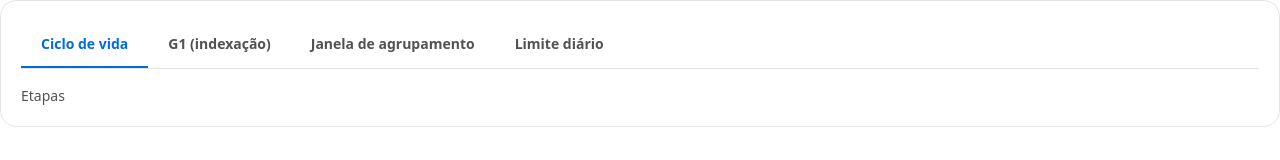
Test: SiteTabs › abre no Ciclo de vida e troca de aba pelo clique
expect the panel named "Ciclo de vida" reads "Etapas": met, box 21,86 -> 65,105
Click the tab "Janela de agrupamento": click(393, 44) 291,21 -> 495,68
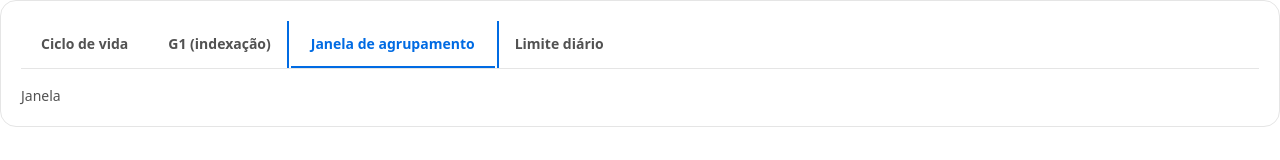
expect the panel named "Janela de agrupamento" reads "Janela": met, box 21,86 -> 61,105
expect the text "Etapas" is gone: met
Click the tab "Limite diário": click(559, 44) 495,21 -> 624,68
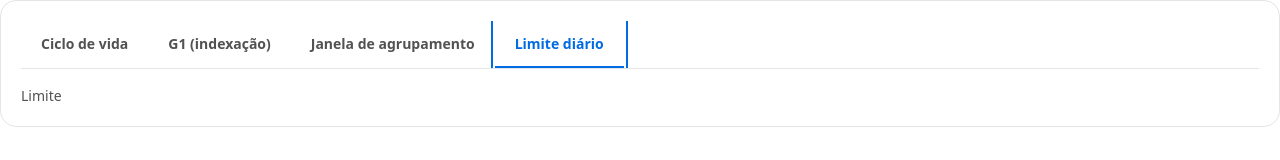
expect the panel named "Limite diário" reads "Limite": met, box 21,86 -> 62,105
